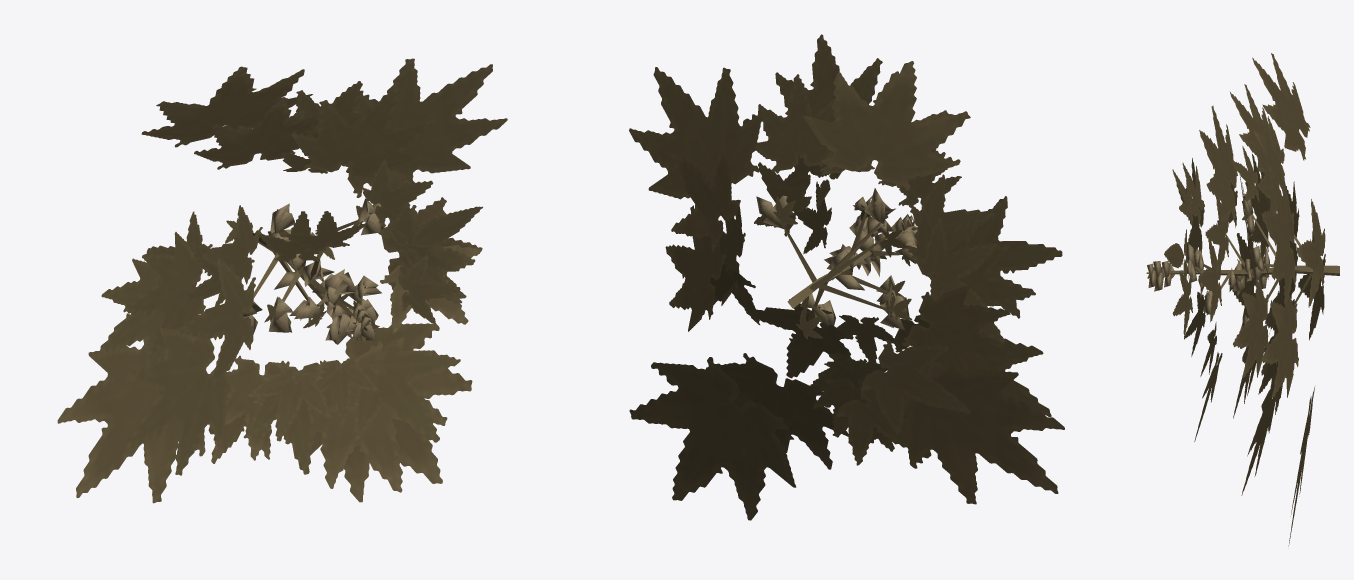
The model's file is p_male_tree_ripe_c4_cards.obj.
3 renders of one model, left to right at view 1: azimuth 30°, elevation 25°; view 2: azimuth 150°, elevation 25°; view 3: azimuth 270°, elevation 25°, orthographic. The views are drawn at different scales.
Size of the model in its own units: 1.32 by 1.29 by 0.5.
1 material, 1 textured.
